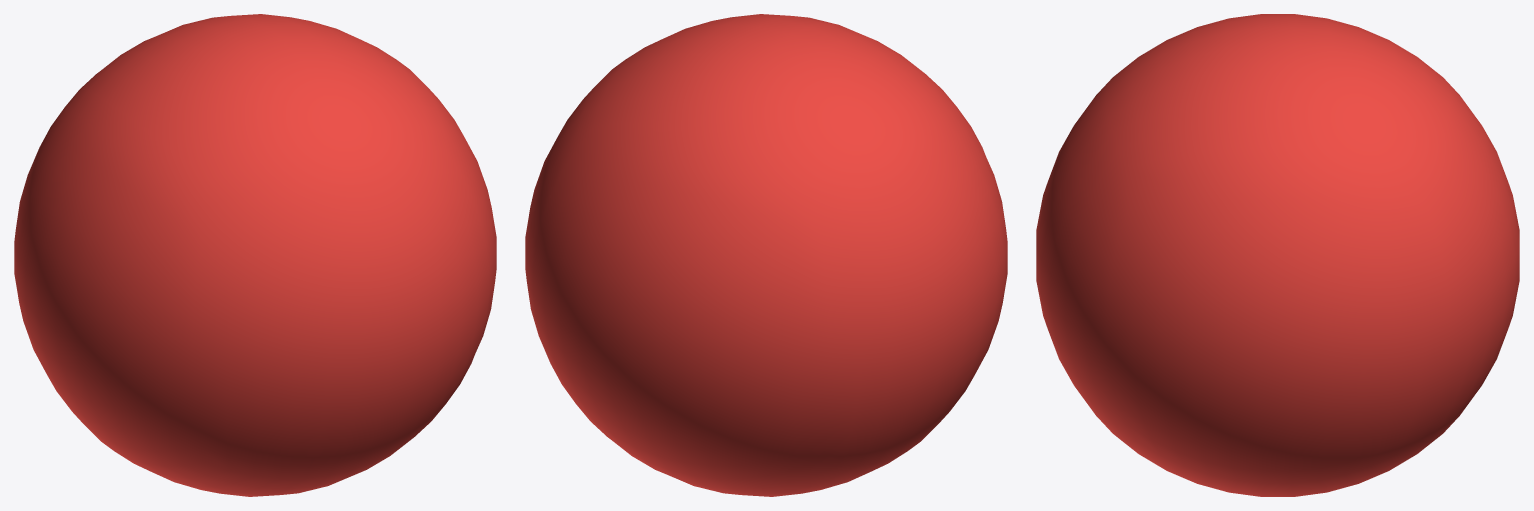
File: Carga_positiva.glb
3 views of the same model, side by side, from view 1: azimuth 30°, elevation 25°; view 2: azimuth 150°, elevation 25°; view 3: azimuth 270°, elevation 25° (orthographic).
Parts seen in each view (by area): view 1: Cube; view 2: Cube; view 3: Cube.
Part boxes in pixels (x1,y1,x2,y2): Cube: [14, 14, 496, 496]; Cube: [525, 14, 1007, 496]; Cube: [1036, 14, 1519, 496].
Size of the model in its own units: 3.44 by 3.44 by 3.44.
